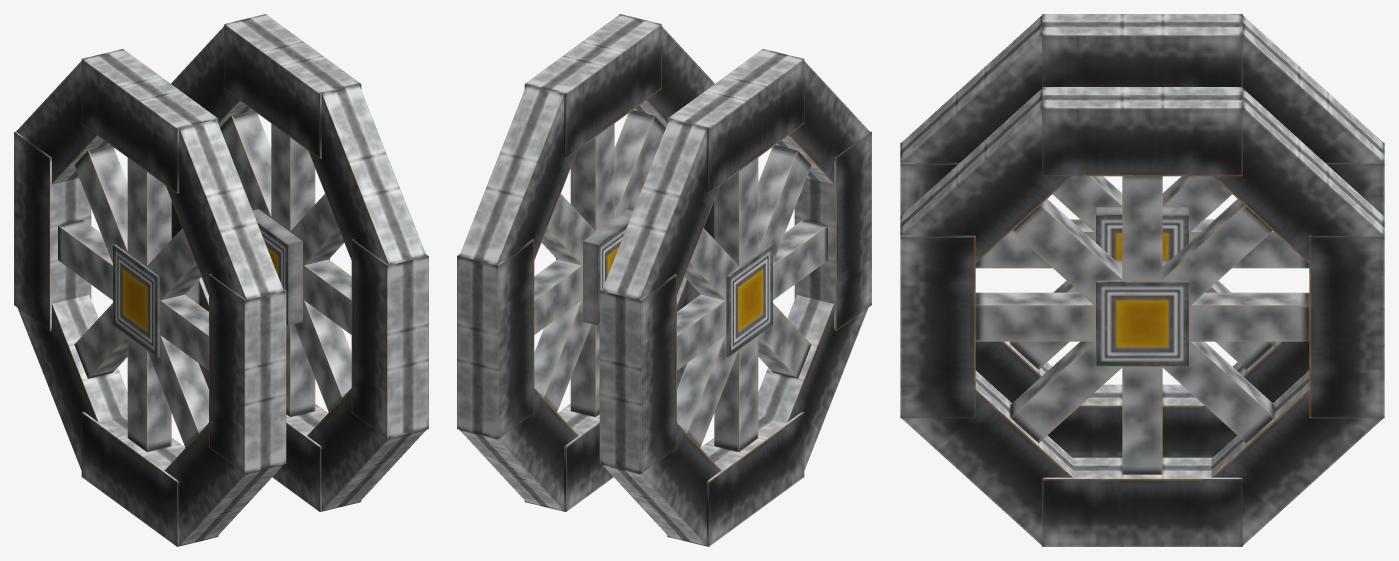
File: flywheels.obj
3 renders of one model, left to right at view 1: azimuth 30°, elevation 25°; view 2: azimuth 150°, elevation 25°; view 3: azimuth 270°, elevation 25°, orthographic. The views are drawn at different scales.
Parts seen in each view (by area): view 1: flywheel_ring2_1, flywheel_ring2_2, flywheel_ring1_1, flywheel_ring1_2, flywheel_ring0_1, flywheel_ring0_2, flywheel_ring6_1, flywheel_ring4_1, flywheel_ring5_1, flywheel_ring3_1, flywheel_ring3_2, flywheel_ring7_1 (+18 smaller); view 2: flywheel_ring6_1, flywheel_ring6_2, flywheel_ring7_1, flywheel_ring7_2, flywheel_ring0_1, flywheel_ring0_2, flywheel_ring2_1, flywheel_ring4_1, flywheel_ring3_1, flywheel_ring5_1, flywheel_ring5_2, flywheel_ring1_1 (+18 smaller); view 3: flywheel_ring0_2, flywheel_ring4_2, flywheel_ring0_1, flywheel_ring6_2, flywheel_ring2_2, flywheel_ring7_2, flywheel_ring1_2, flywheel_ring5_2, flywheel_ring3_2, flywheel_ring1_1, flywheel_ring7_1, flywheel_hub_2 (+20 smaller).
Boxes of the visible parts, x1,y1,x2,y2 form: flywheel_ring2_1: (209,274,286,473); flywheel_ring2_2: (351,239,428,438); flywheel_ring1_1: (165,119,283,299); flywheel_ring1_2: (308,84,426,265); flywheel_ring0_1: (81,49,218,193); flywheel_ring0_2: (224,14,361,158); flywheel_ring6_1: (14,131,91,331); flywheel_ring4_1: (81,411,218,546); flywheel_ring5_1: (17,295,127,470); flywheel_ring3_1: (164,423,283,546); flywheel_ring3_2: (307,388,426,511); flywheel_ring7_1: (16,61,114,184); flywheel_ring6_1: (599,274,676,473); flywheel_ring6_2: (457,239,534,438); flywheel_ring7_1: (602,119,720,299); flywheel_ring7_2: (459,84,577,265); flywheel_ring0_1: (667,49,804,193); flywheel_ring0_2: (524,14,661,158); flywheel_ring2_1: (794,131,871,331); flywheel_ring4_1: (667,411,804,546); flywheel_ring3_1: (758,295,868,470); flywheel_ring5_1: (602,423,721,546); flywheel_ring5_2: (459,388,578,511); flywheel_ring1_1: (771,61,869,184); flywheel_ring0_2: (1042,87,1242,176); flywheel_ring4_2: (1042,457,1242,546); flywheel_ring0_1: (1042,14,1242,86); flywheel_ring6_2: (1309,215,1384,418); flywheel_ring2_2: (900,215,975,418); flywheel_ring7_2: (1213,88,1384,263); flywheel_ring1_2: (900,88,1071,263); flywheel_ring5_2: (1211,370,1382,545); flywheel_ring3_2: (902,370,1073,545); flywheel_ring1_1: (900,15,1042,162); flywheel_ring7_1: (1242,15,1384,162); flywheel_hub_2: (1096,260,1188,366).
Size of the model in its own units: 0.1737 by 0.3772 by 0.3772.
